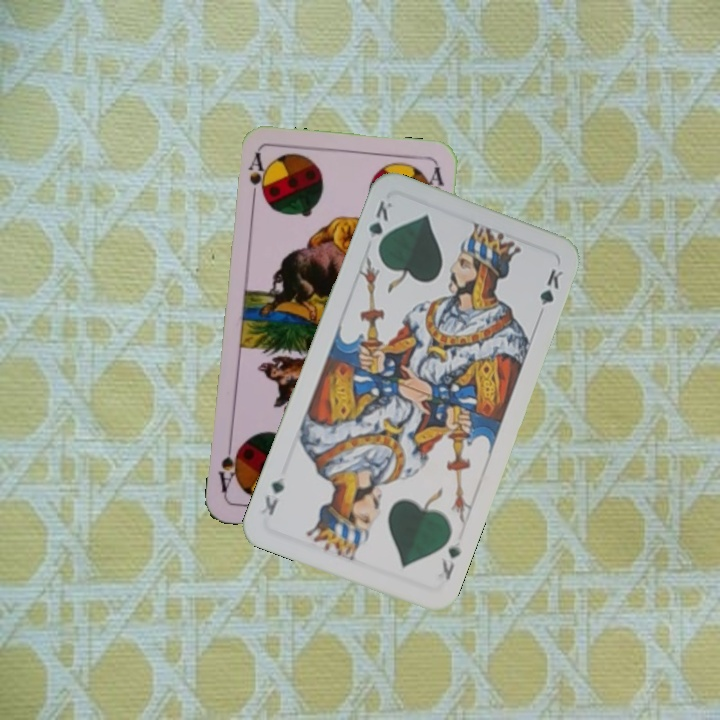GK: (364, 196, 395, 254), (437, 542, 464, 583)
SA: (244, 149, 267, 208)
